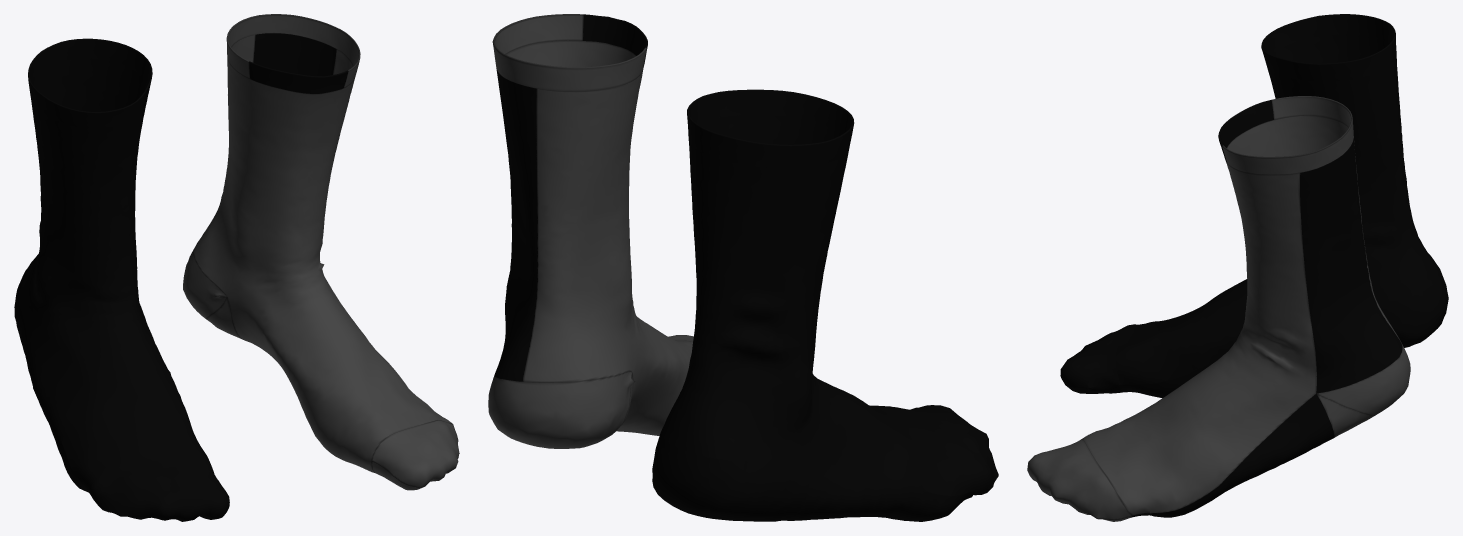
Rendered from modelo.glb.
3 renders of one model, left to right at view 1: azimuth 30°, elevation 25°; view 2: azimuth 150°, elevation 25°; view 3: azimuth 270°, elevation 25°, orthographic. The views are drawn at different scales.
Parts seen in each view (by area): view 1: Cloth; view 2: Cloth; view 3: Cloth.
Part boxes in pixels (x1=…): Cloth: x1=14, y1=14, x2=459, y2=521; Cloth: x1=488, y1=14, x2=998, y2=521; Cloth: x1=1027, y1=14, x2=1448, y2=521.
Bounding box in the file's own units: 0.2479 × 0.2521 × 0.2606.
2 materials, 2 textured.
